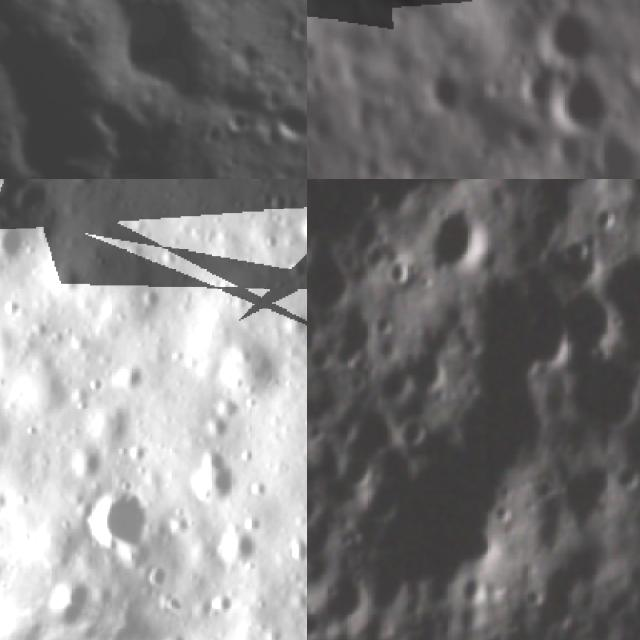crater: (79, 0, 215, 113), (80, 472, 174, 565), (548, 358, 640, 436), (554, 281, 636, 360), (546, 66, 629, 143), (420, 204, 496, 284), (532, 0, 615, 72), (186, 442, 260, 521), (550, 454, 620, 527), (338, 401, 398, 466), (407, 62, 465, 124), (0, 215, 52, 282), (254, 86, 307, 149), (587, 126, 640, 179), (402, 342, 451, 396), (45, 260, 92, 306), (221, 523, 268, 568), (0, 367, 27, 441), (515, 71, 554, 118), (543, 131, 583, 171), (502, 118, 542, 157), (276, 526, 307, 575), (401, 404, 429, 451), (381, 253, 415, 291), (292, 196, 307, 257), (374, 0, 420, 17), (307, 31, 323, 66)
